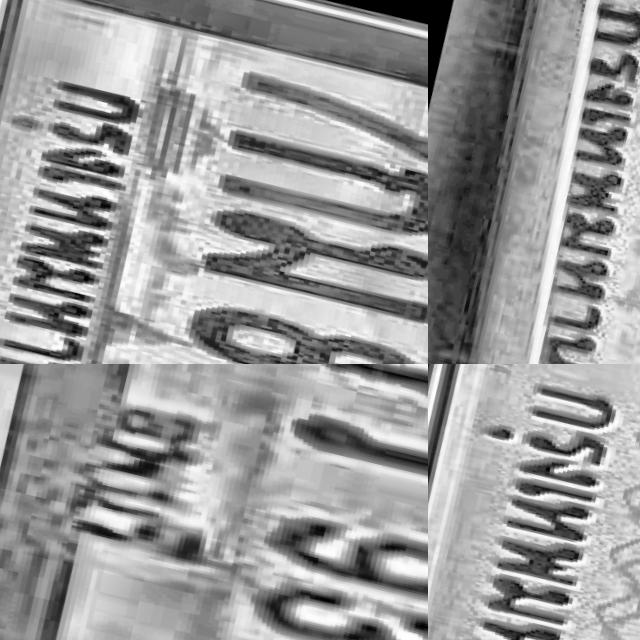license-plate: (0, 0, 428, 364), (0, 364, 428, 640), (428, 0, 640, 364), (428, 364, 640, 640)
